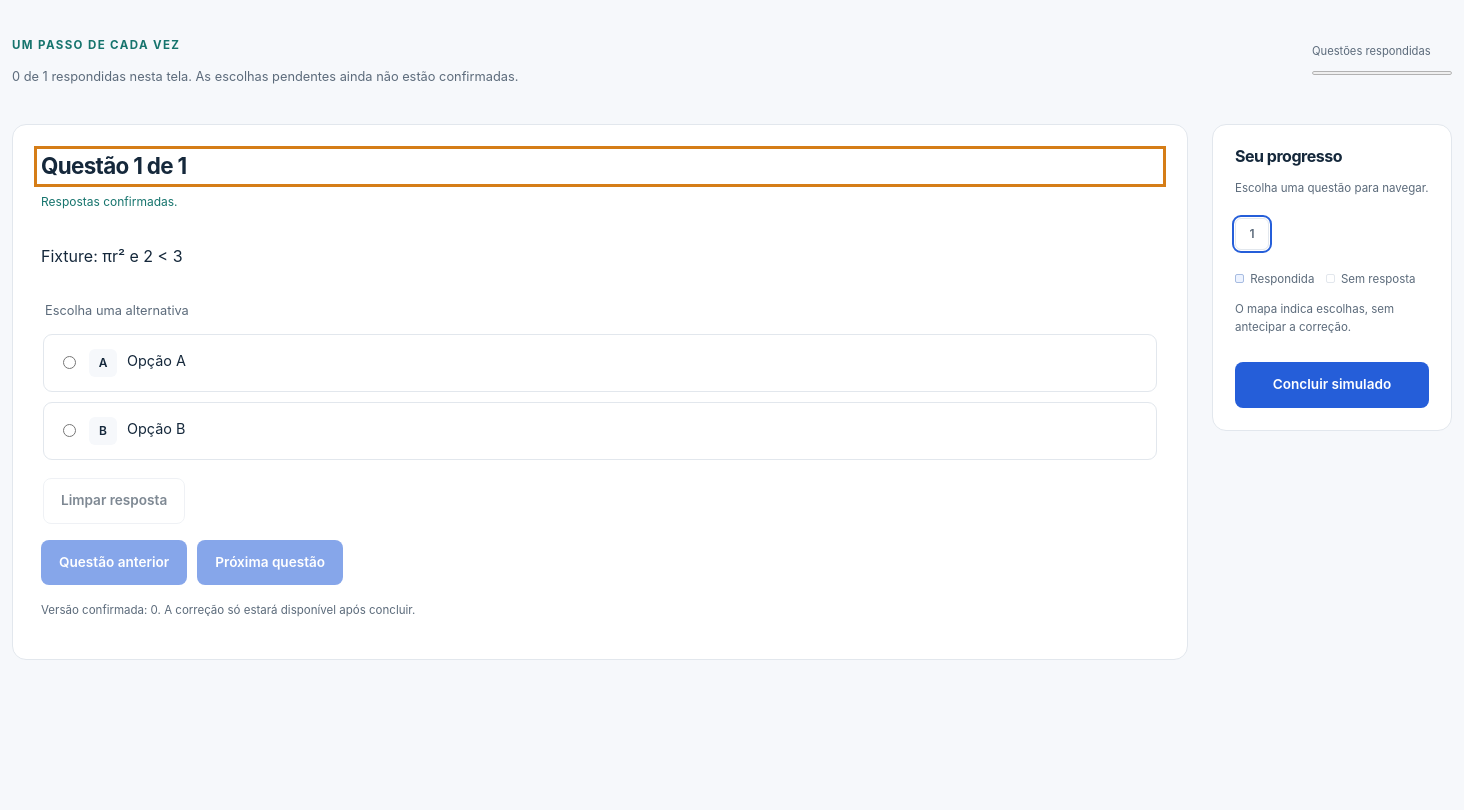
retry mantém ID/payload da gravação cuja confirmação falhou
Click the radio button labelled "A Opção A": (70, 363) x1=63 y1=356 x2=76 y2=369
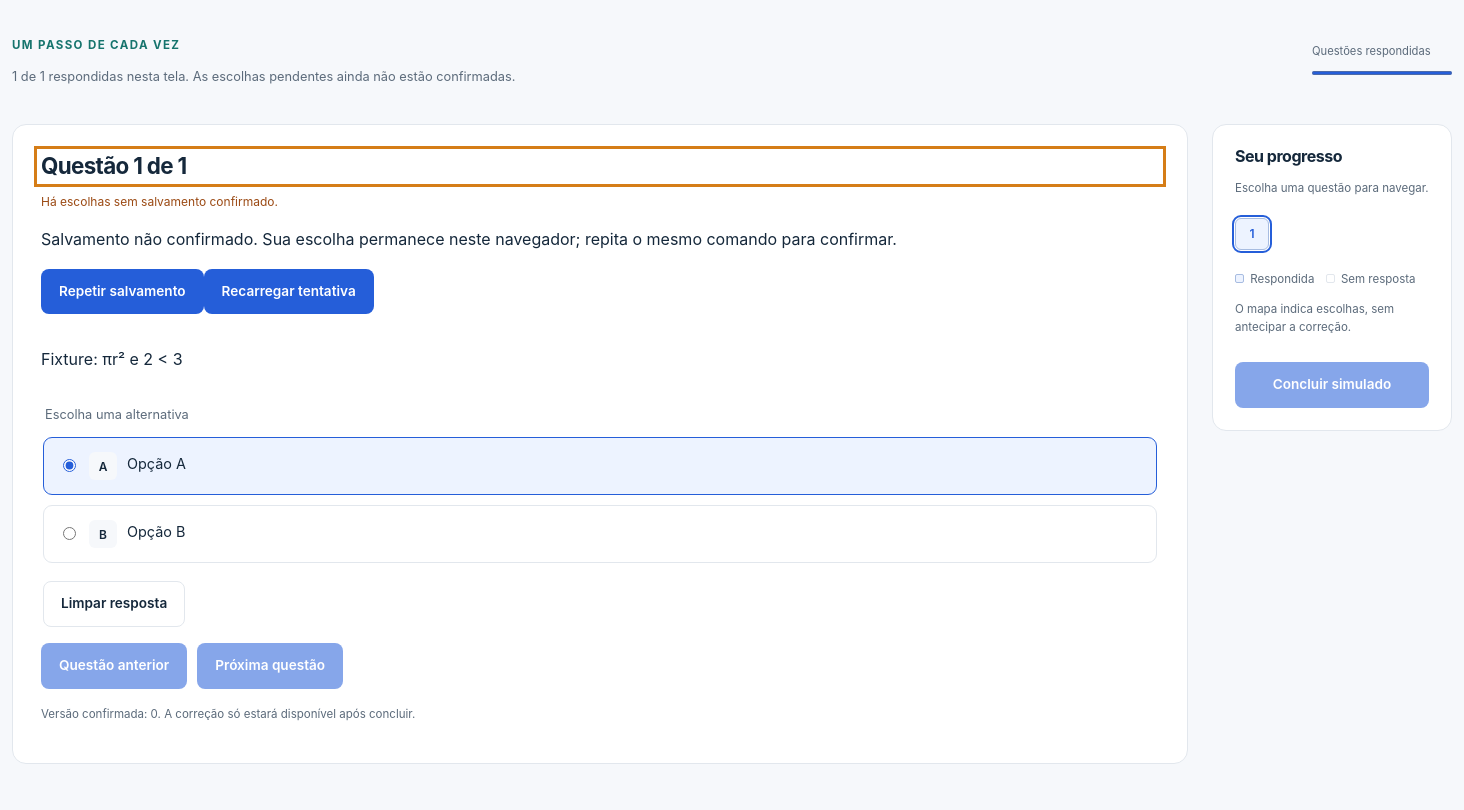
Click the button "Repetir salvamento": (122, 292) x1=41 y1=269 x2=204 y2=314
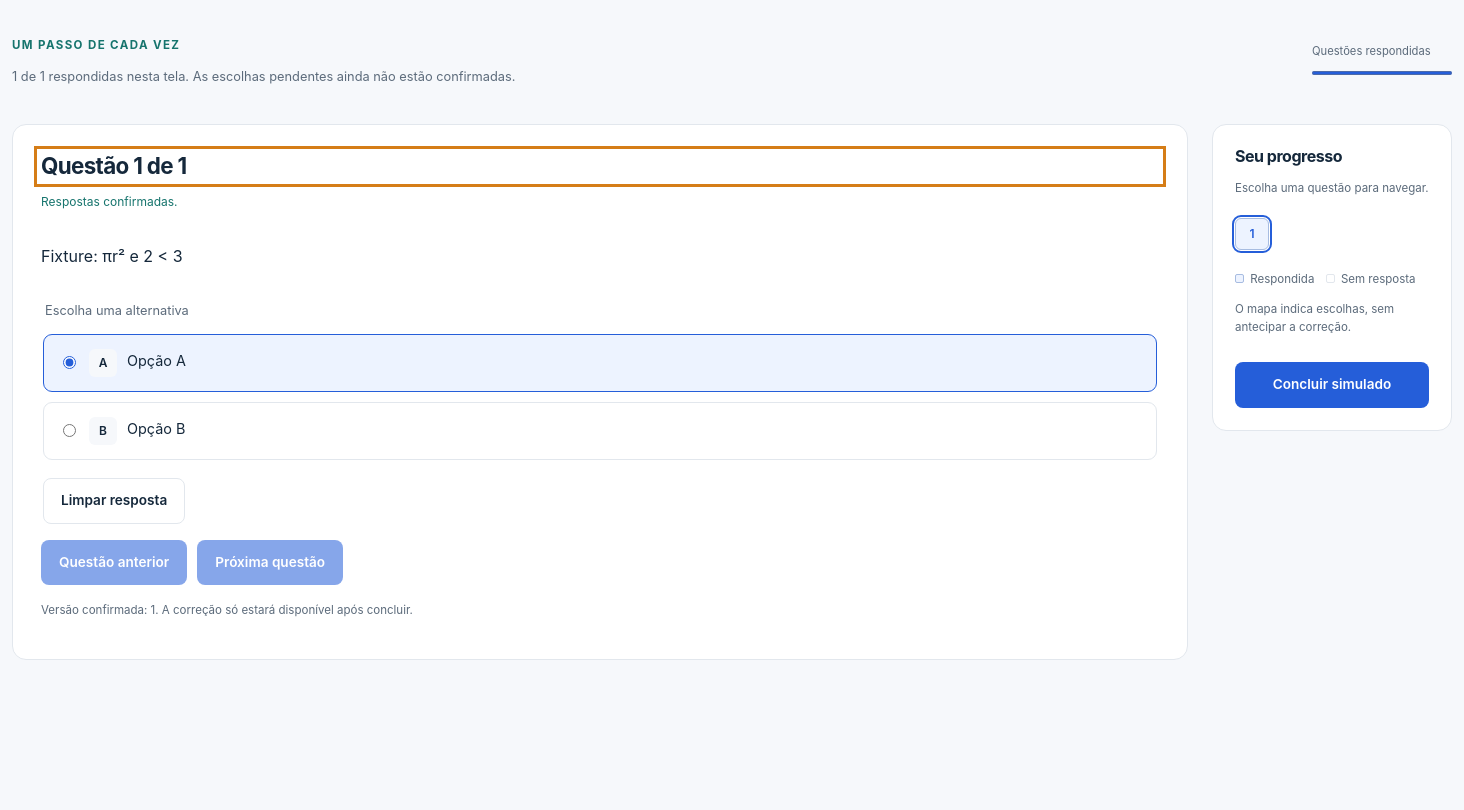
expect the radio button labelled "A Opção A" is checked: met, box x1=63 y1=356 x2=76 y2=369
expect the text "Respostas confirmadas." is shown: met, box x1=41 y1=194 x2=178 y2=209
